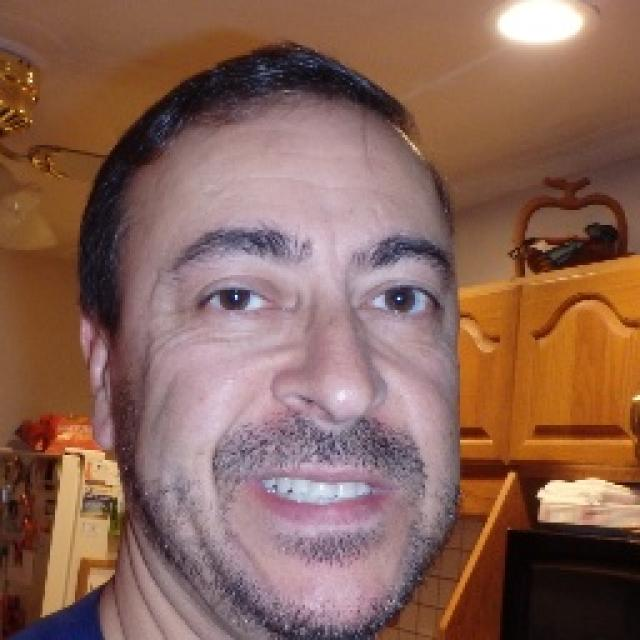earlobe: (91, 403, 122, 453)
eye: (200, 283, 282, 317), (363, 283, 438, 318)
nose: (270, 394, 406, 468)
wholeear: (79, 306, 122, 452)
